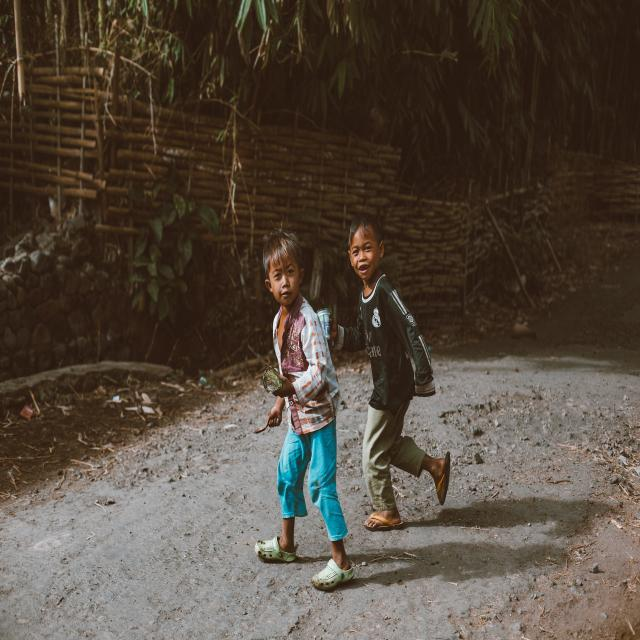Person: (320, 215, 451, 530), (256, 228, 356, 592)
